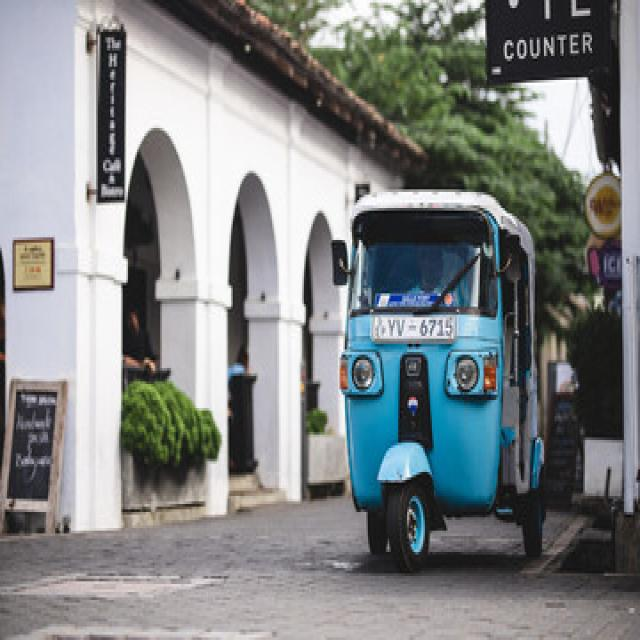three wheeler: (332, 189, 542, 571)
